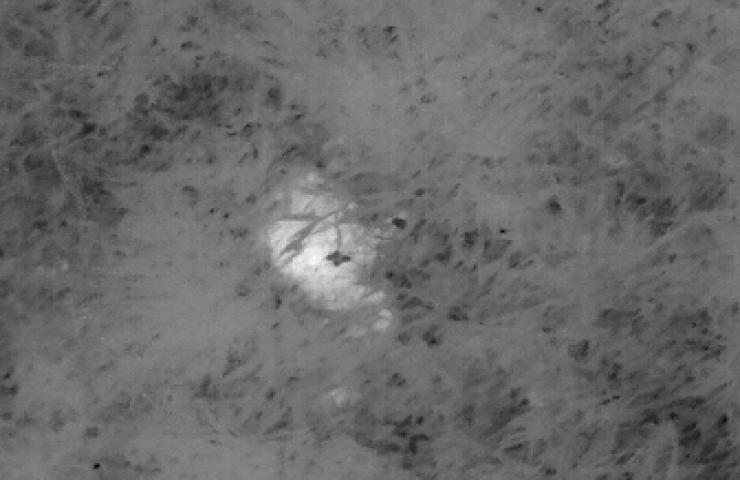landmines: (264, 186, 391, 311)
